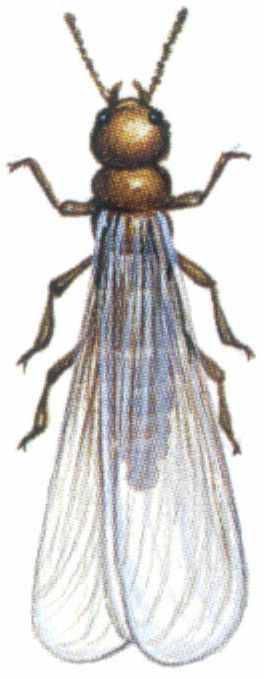flying termite: (2, 4, 263, 679)
